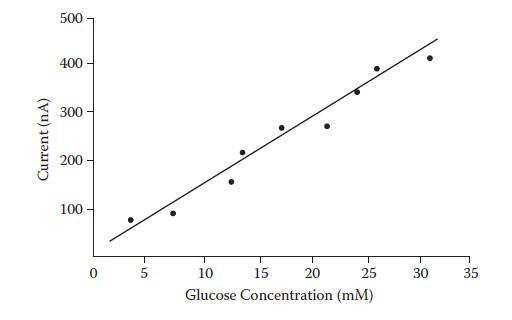axis: (86, 252, 474, 264), (86, 15, 98, 260)
point: (165, 207, 179, 218), (125, 215, 138, 226), (371, 65, 384, 74), (238, 149, 249, 159), (276, 123, 287, 133), (226, 178, 237, 187), (425, 54, 435, 63), (352, 88, 363, 96), (323, 122, 333, 130)
